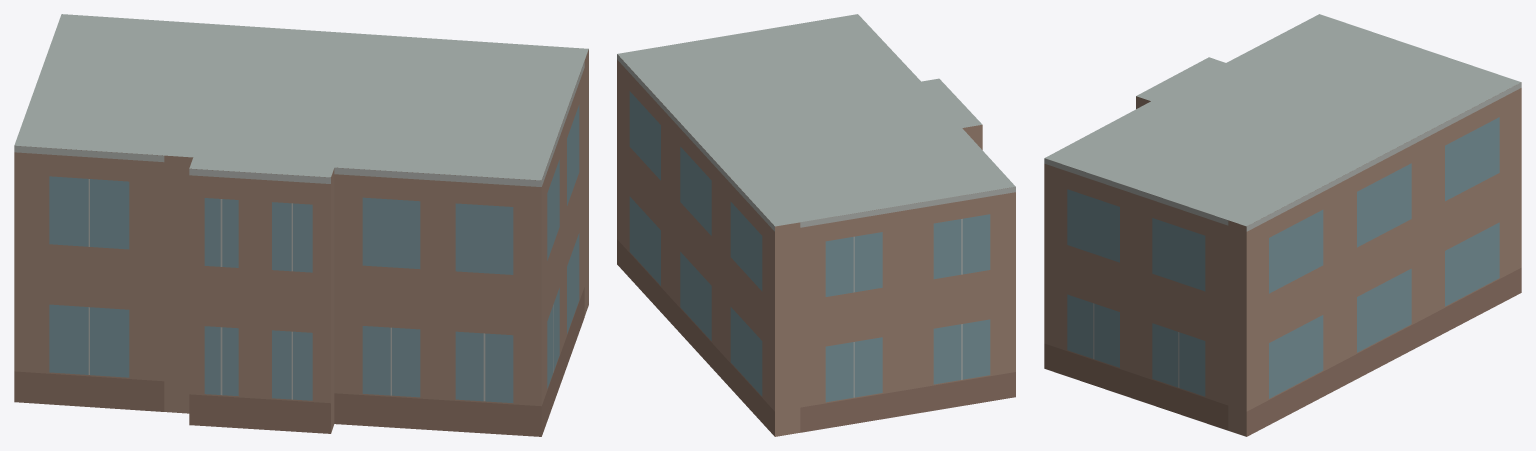
Rendered from survey-upis-33015376.glb.
The picture shows the model from 3 angles, left to right: view 1: azimuth 30°, elevation 25°; view 2: azimuth 150°, elevation 25°; view 3: azimuth 270°, elevation 25°; orthographic projection. The views are drawn at different scales.
Visible parts, largest first — view 1: survey-upis-33015376.tmp; view 2: survey-upis-33015376.tmp; view 3: survey-upis-33015376.tmp.
Boxes of the visible parts, <box> form: survey-upis-33015376.tmp: <box>14,14,588,436</box>; survey-upis-33015376.tmp: <box>617,14,1015,436</box>; survey-upis-33015376.tmp: <box>1044,14,1521,436</box>.
Size of the model in its own units: 20.28 by 9.37 by 19.25.
